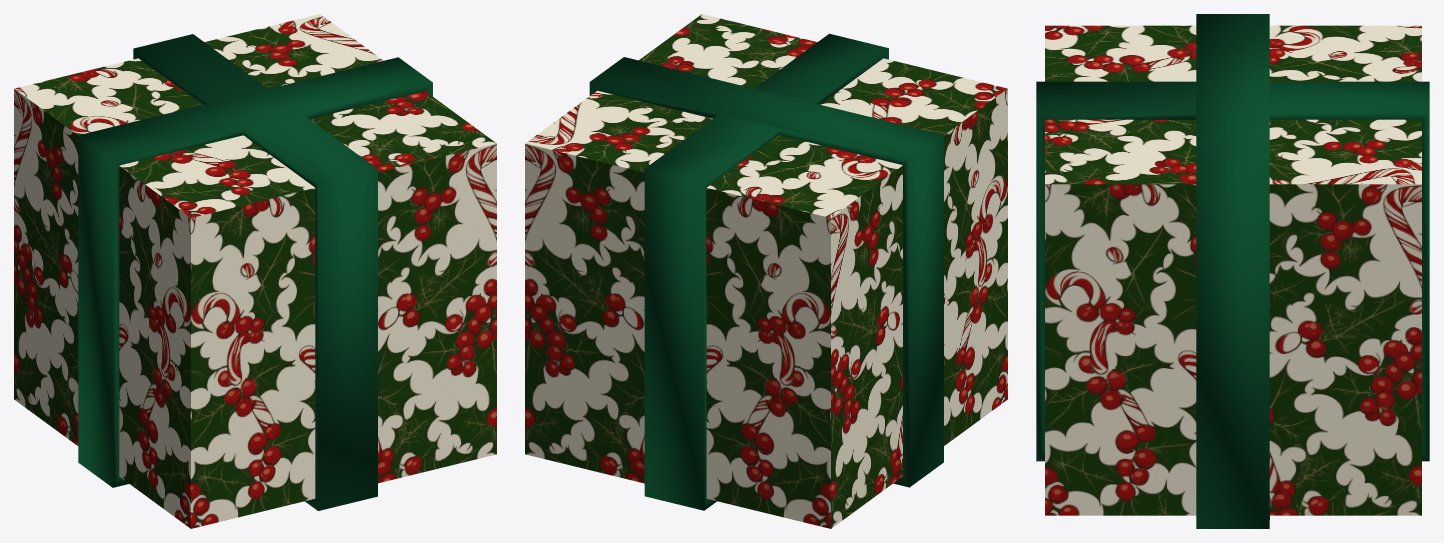
File: giftSmallWhite1.glb
The picture shows the model from 3 angles, left to right: view 1: azimuth 30°, elevation 25°; view 2: azimuth 150°, elevation 25°; view 3: azimuth 270°, elevation 25°; orthographic projection. The views are drawn at different scales.
Visible parts, largest first — view 1: GiftSmallWhite1; view 2: GiftSmallWhite1; view 3: GiftSmallWhite1.
Part boxes in pixels (x1,y1,x2,y2): GiftSmallWhite1: [14, 14, 496, 528]; GiftSmallWhite1: [525, 14, 1007, 528]; GiftSmallWhite1: [1036, 14, 1429, 528].
Size of what is drawn, in the model's own units: 0.6371 by 0.6227 by 0.6371.
2 materials, 2 textured.
